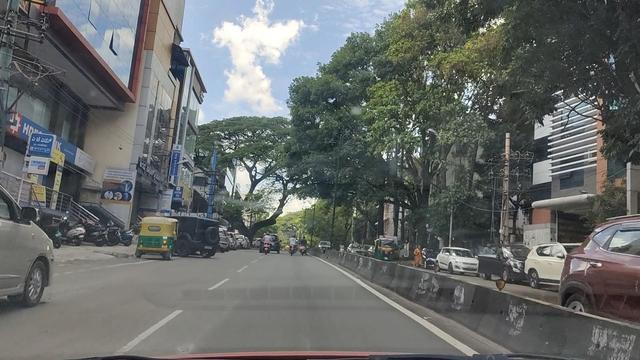RoadDamages: (156, 336, 208, 357)
